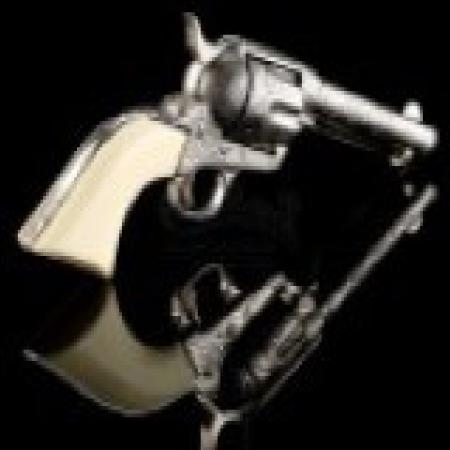Pistol: (17, 7, 439, 266)
